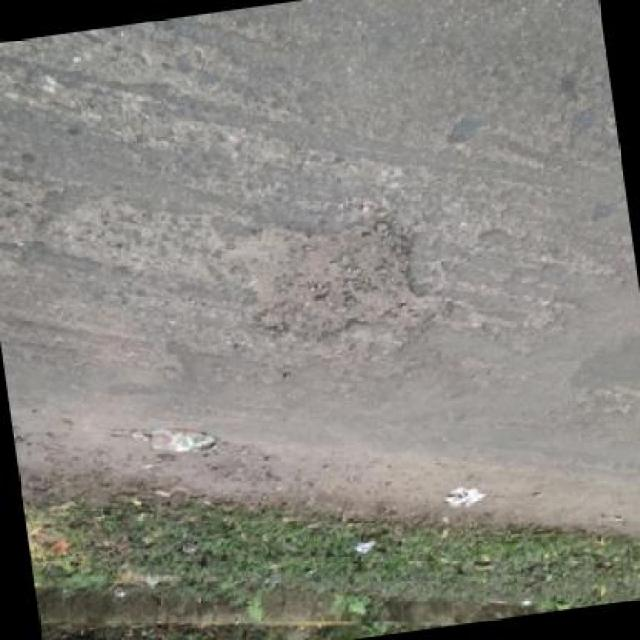pothole1: (221, 200, 457, 357)
